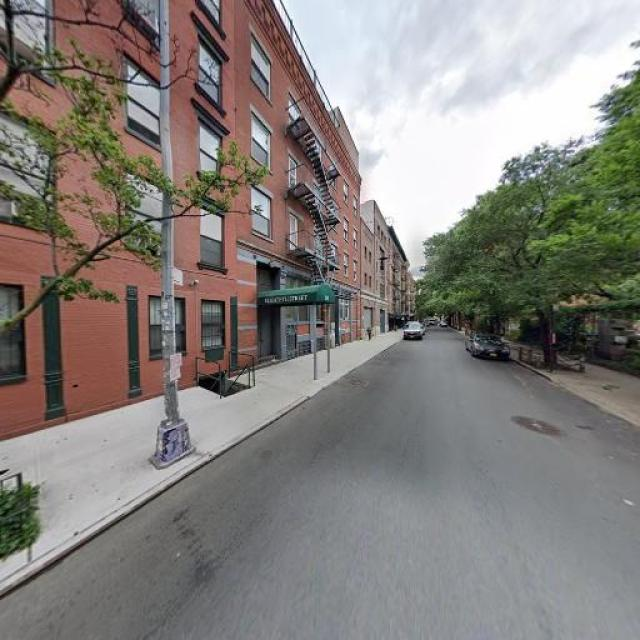Building: (1, 1, 238, 427), (242, 1, 359, 364)
